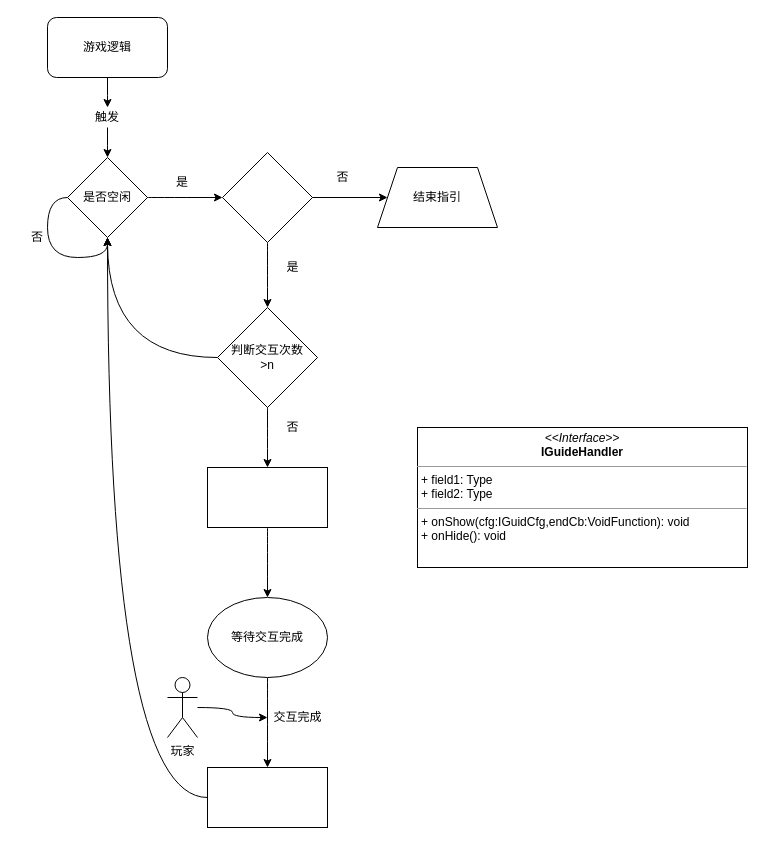
Some shapes in this 765 by 845 pixel diagram are drawn without their labels. Each missing label, with the centre of its shape:
"是否有 下一个指引 任务" belongs at (x=267, y=197).
"显示指引 显示交互次数+1" belongs at (x=267, y=497).
"隐藏指引类型 清理事件监听" belongs at (x=267, y=797).
